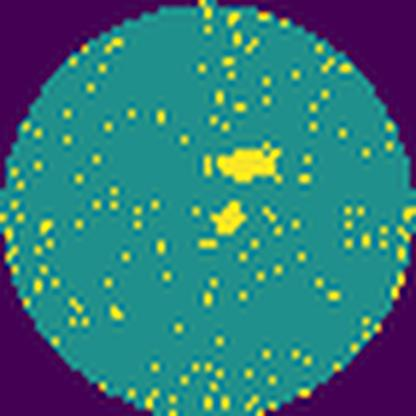Loc: (217, 144, 287, 184), (209, 196, 249, 236)
